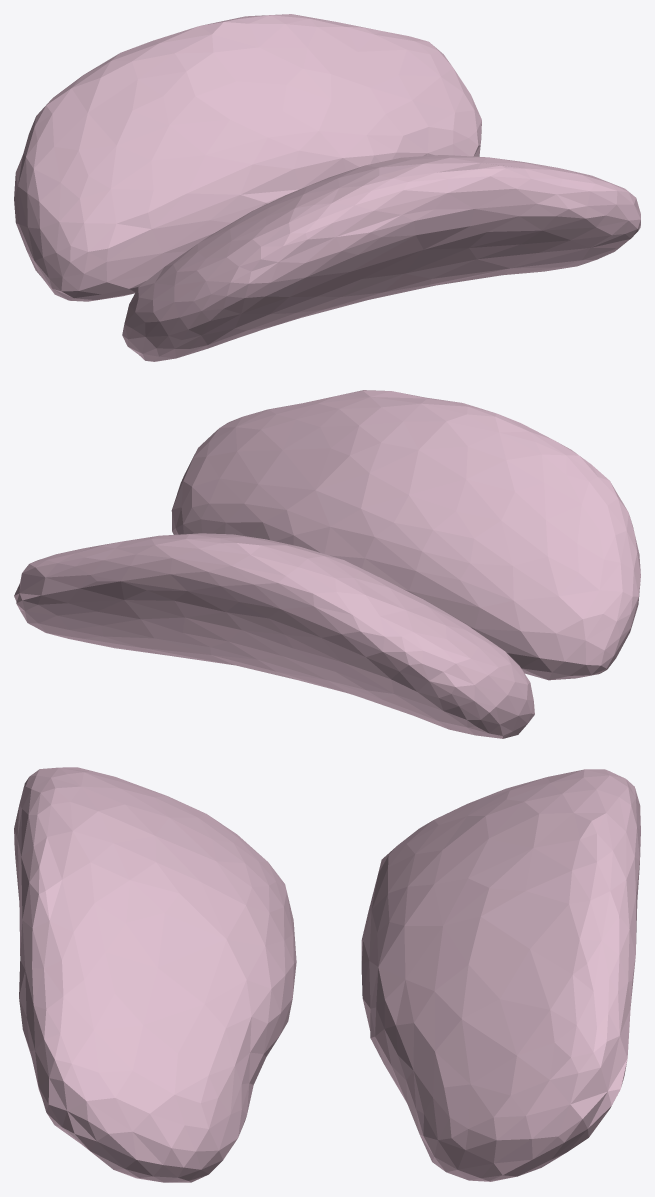
The picture shows the model from 3 angles, top to bottom: view 1: azimuth 30°, elevation 25°; view 2: azimuth 150°, elevation 25°; view 3: azimuth 270°, elevation 25°; orthographic projection. The views are drawn at different scales.
Parts seen in each view (by area): view 1: 307.obj; view 2: 307.obj; view 3: 307.obj.
Boxes of the visible parts, bbox=[...] form: 307.obj: bbox=[14, 14, 640, 361]; 307.obj: bbox=[14, 390, 640, 738]; 307.obj: bbox=[14, 767, 640, 1182].
Bounding box in the file's own units: 1563 × 591 × 1341.
